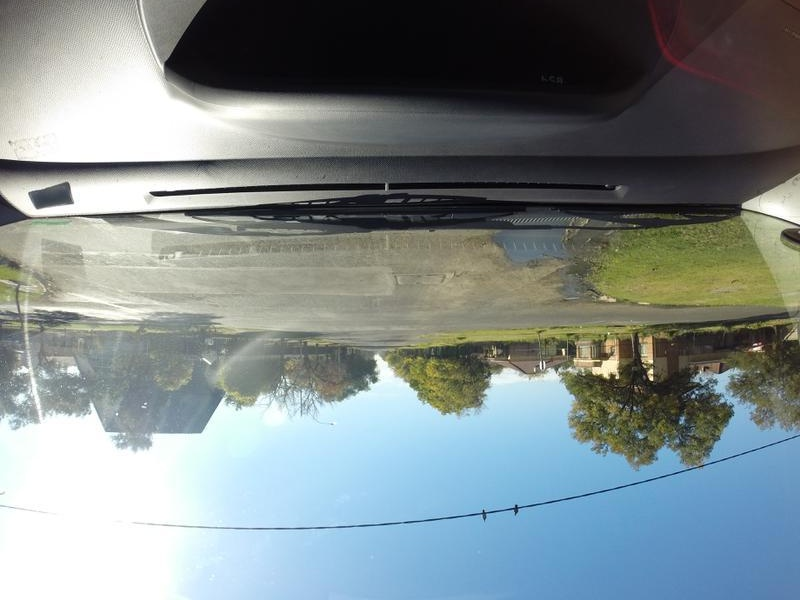pothole: (491, 219, 570, 272)
